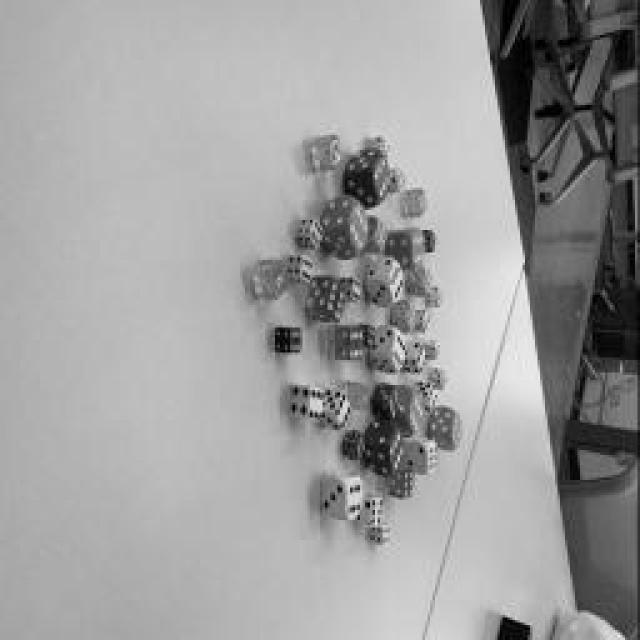dice_6: (349, 202, 369, 252), (328, 280, 348, 325), (270, 262, 290, 300), (375, 154, 390, 198), (336, 390, 352, 430), (390, 432, 405, 472), (410, 394, 425, 434), (348, 478, 362, 520), (350, 326, 365, 362), (391, 264, 404, 301), (310, 389, 325, 421), (328, 136, 342, 169), (413, 230, 425, 268), (394, 335, 406, 370), (389, 385, 401, 420), (311, 220, 324, 250), (301, 256, 314, 284), (452, 412, 462, 448), (370, 499, 382, 526), (290, 328, 302, 354), (405, 469, 415, 499), (429, 442, 439, 472), (418, 344, 428, 374), (378, 221, 388, 249), (428, 384, 438, 411), (359, 385, 369, 410), (352, 278, 362, 302), (358, 435, 368, 457), (425, 268, 433, 294), (419, 190, 426, 218), (409, 306, 416, 332), (382, 139, 390, 161), (430, 232, 438, 252), (399, 171, 406, 191), (384, 526, 391, 546), (369, 328, 376, 348), (442, 370, 448, 390), (436, 342, 442, 360), (438, 290, 444, 305), (425, 312, 430, 330)
